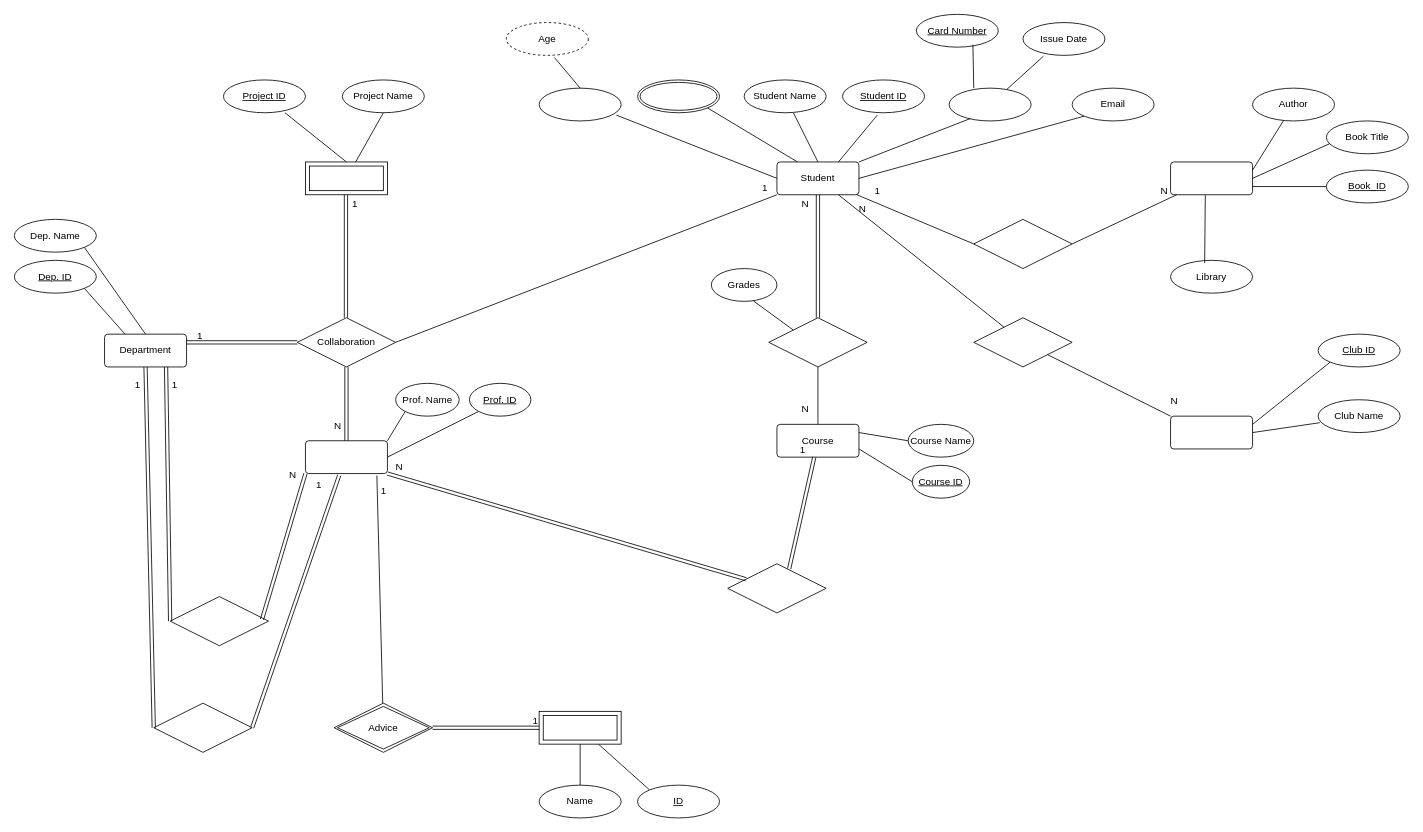
The diagram is 1423 pixels wide and 832 high, and some of its shapes have lost their labels. Each missing label, with the centre of its shape:
Academic Advisor: pixel 579 727
Assigned: pixel 219 621
Book: pixel 1211 178
Borrow: pixel 1022 244
Club: pixel 1211 432
Date of Birth: pixel 579 104
Enroll: pixel 817 342
Join: pixel 1022 342
Phone number: pixel 678 96
Professor: pixel 346 457
Project: pixel 346 178
responsible: pixel 776 588
Supervise: pixel 202 727
University ID: pixel 989 104
